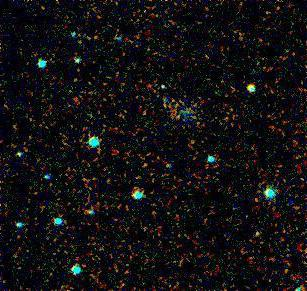star: (239, 218, 269, 248)
